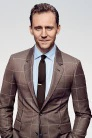male: (25, 3, 62, 54)
